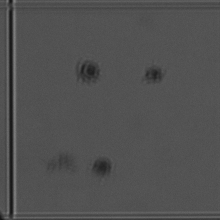Dead Cell: (74, 52, 111, 89), (142, 60, 171, 89), (90, 153, 117, 180)
